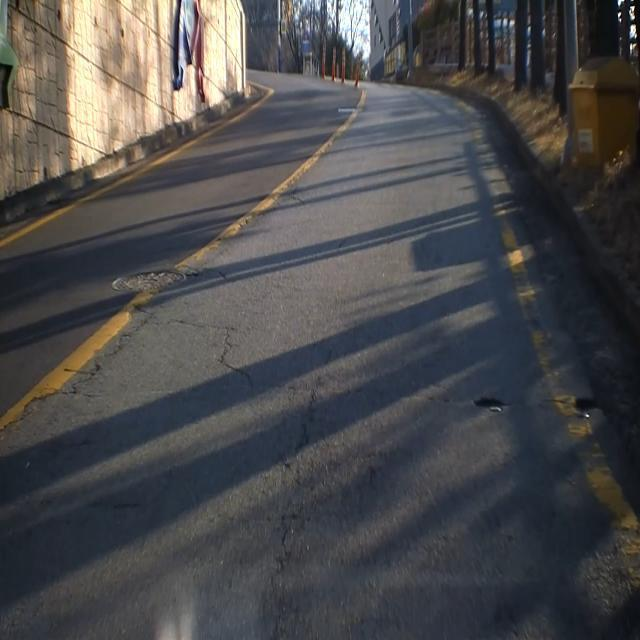pothole: (467, 386, 513, 423), (569, 389, 602, 420)
